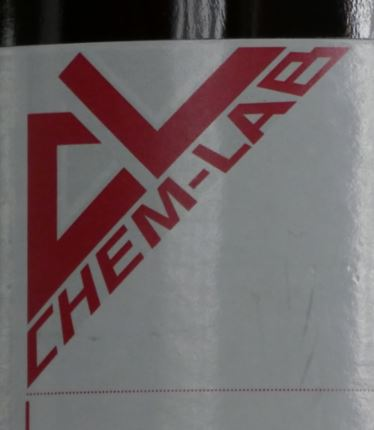ChemLab: (22, 44, 353, 392)
